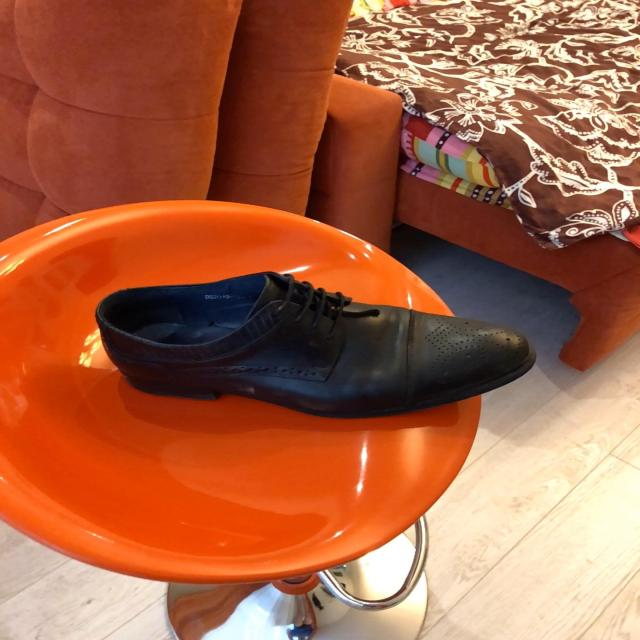shoe: (93, 272, 535, 422)
